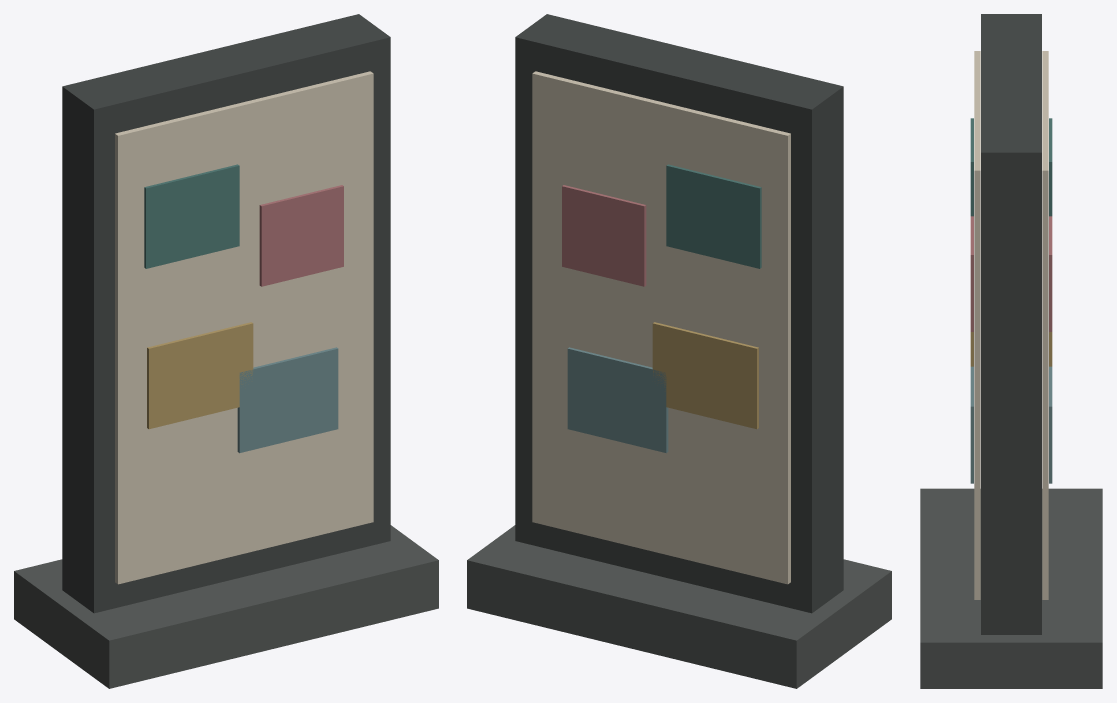
The model's file is TC_Directory.glb.
3 renders of one model, left to right at view 1: azimuth 30°, elevation 25°; view 2: azimuth 150°, elevation 25°; view 3: azimuth 270°, elevation 25°, orthographic. The views are drawn at different scales.
Parts seen in each view (by area): view 1: TC_Directory; view 2: TC_Directory; view 3: TC_Directory.
Boxes of the visible parts, x1,y1,x2,y2 form: TC_Directory: (14,14,438,688); TC_Directory: (467,14,891,688); TC_Directory: (920,14,1102,688).
Bounding box in the file's own units: 6 × 9.6 × 3.
1 material, 1 textured.
